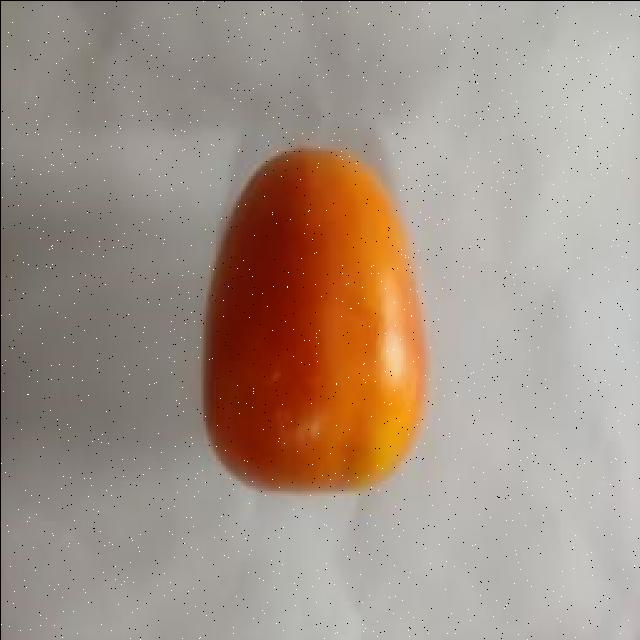Ripe: (196, 141, 437, 500)
